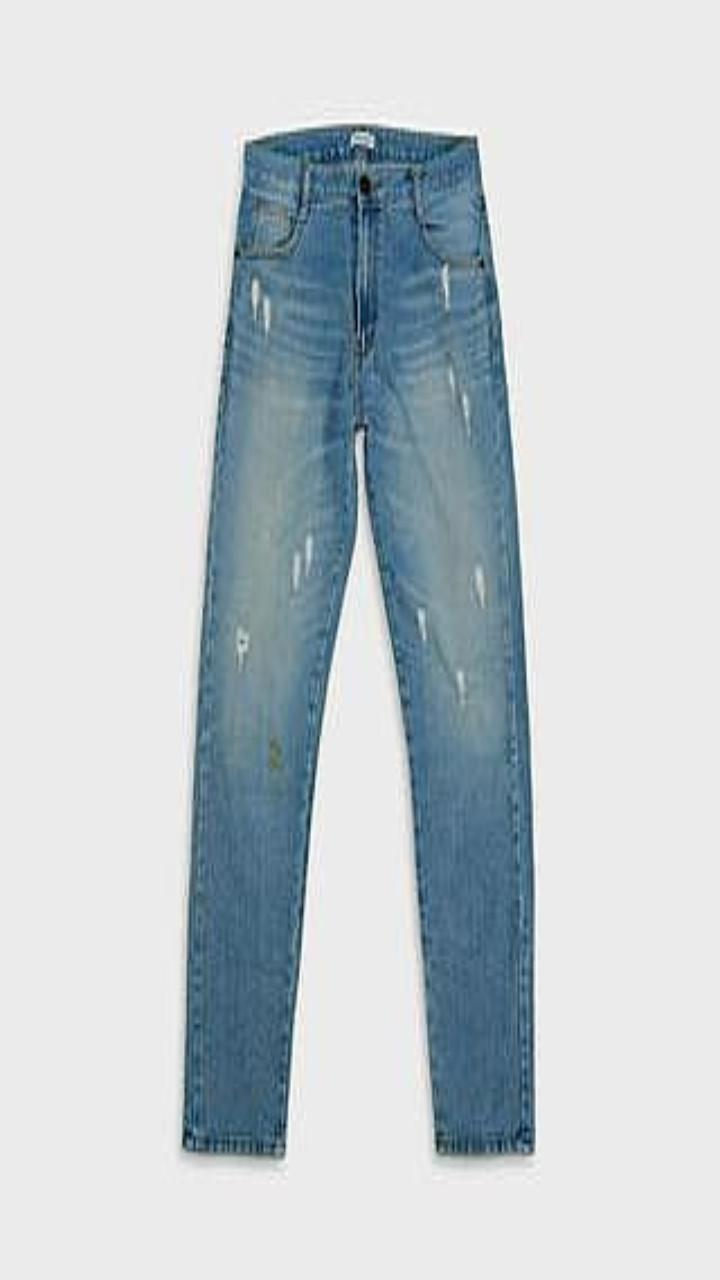Jeans: (183, 125, 533, 1155)
